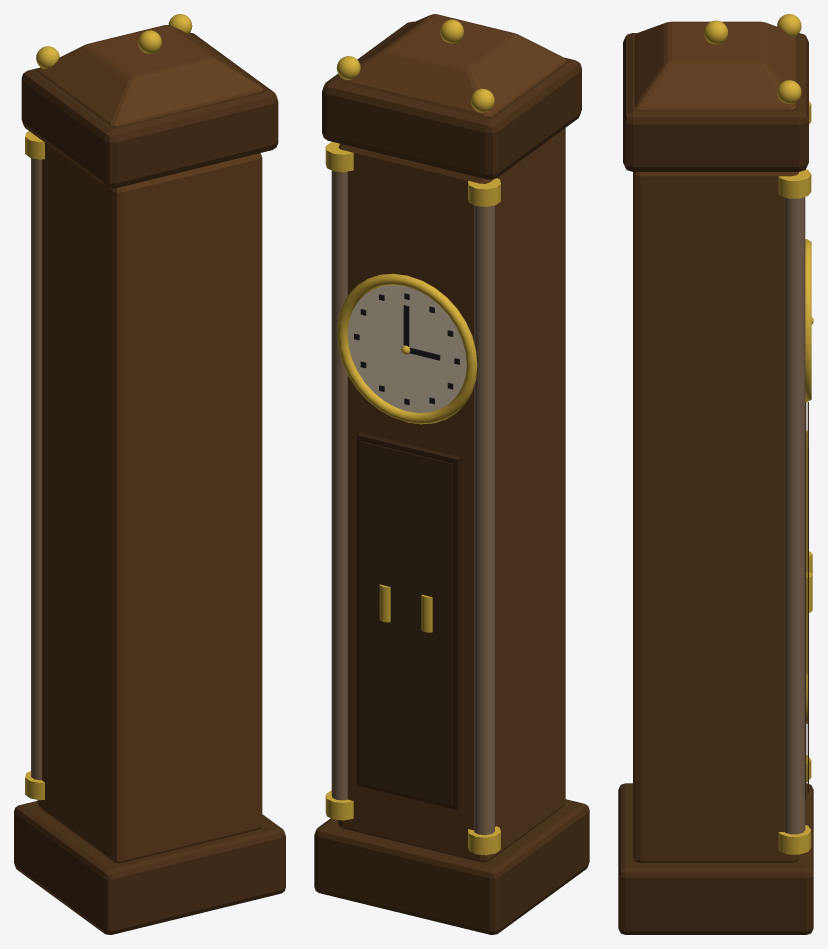
The model's file is clock.fbx.
3 renders of one model, left to right at view 1: azimuth 30°, elevation 25°; view 2: azimuth 150°, elevation 25°; view 3: azimuth 270°, elevation 25°, orthographic. The views are drawn at different scales.
Visible parts, largest first — view 1: Grandfather Clock; view 2: Grandfather Clock; view 3: Grandfather Clock.
Part boxes in pixels (bbox=[...]): Grandfather Clock: bbox=[14, 14, 285, 934]; Grandfather Clock: bbox=[314, 14, 589, 934]; Grandfather Clock: bbox=[618, 14, 813, 934].
Size of the model in its own units: 0.88 by 3.93 by 0.8.
